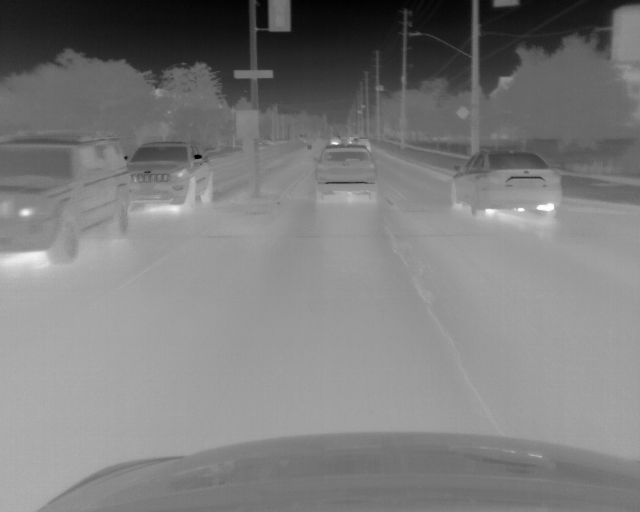car: (1, 134, 131, 270), (450, 149, 561, 217), (124, 140, 216, 207), (316, 147, 377, 203)
